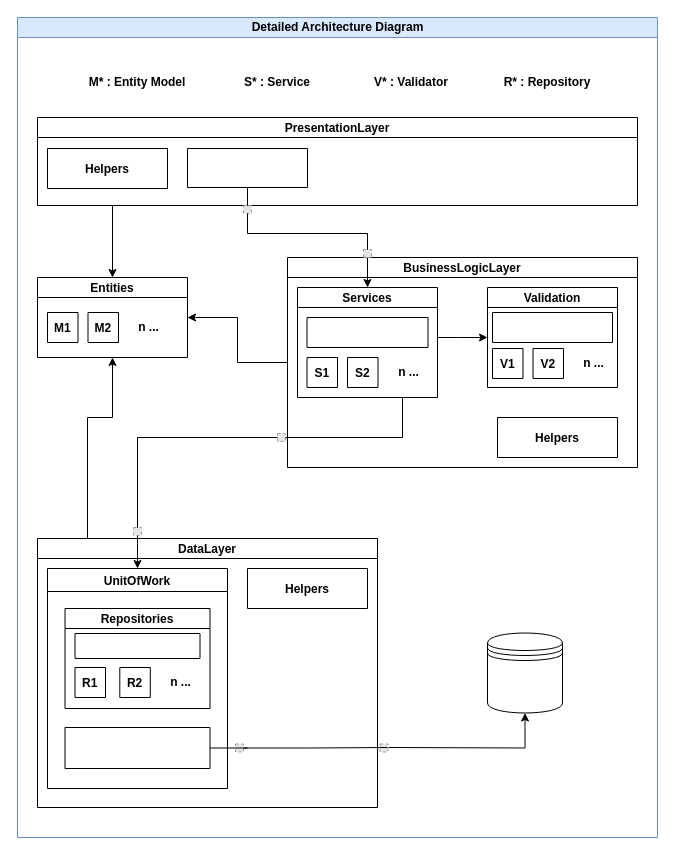
This 675x855 diagram has some shape labels left out. Grey dashed boxes stand in for pictures. The shapes that lost their labels are listed below. From the top down, each one's centre as x and y in pixels, then its label:
At (247,168): "Winforms".
At (367,332): "CustomAppContext".
At (552,327): "FluentValidation".
At (137,645): "Dapper".
At (524,672): "SQLite".
At (137,747): "DatabaseProvider".
